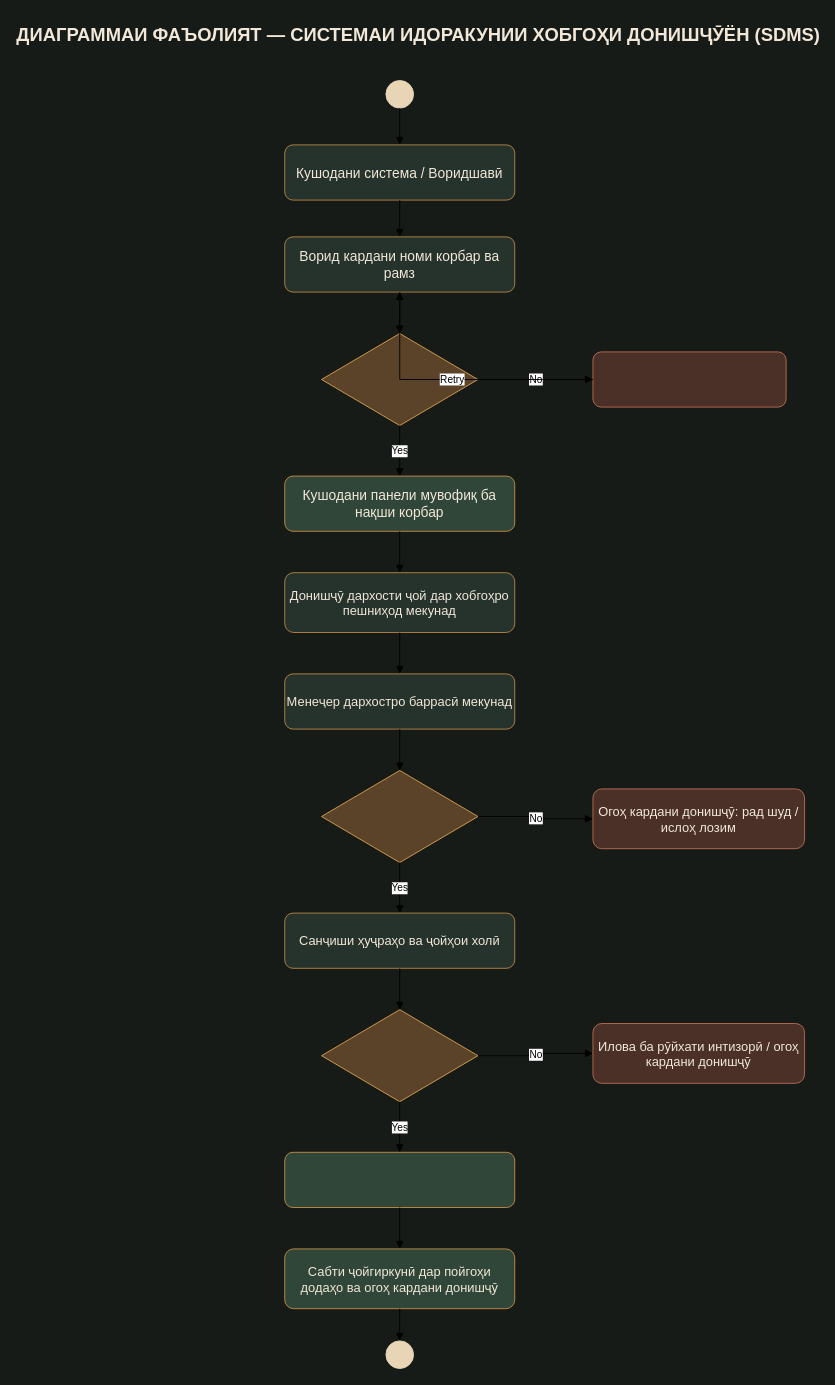
Some shapes in this 835 by 1385 pixel diagram are drawn without their labels. Here are the shapes that lost their labels. From the top down, the centre of each, then its label:
At (x=399, y=379): "Маълумоти воридшуда дуруст аст?".
At (x=689, y=379): "Нишон додани паёми хато".
At (x=399, y=816): "Дархост тасдиқ шуд?".
At (x=399, y=1055): "Ҷойи мувофиқ дастрас аст?".
At (x=399, y=1179): "Ҷудо кардани ҳуҷра / ҷой ба донишҷӯ".
